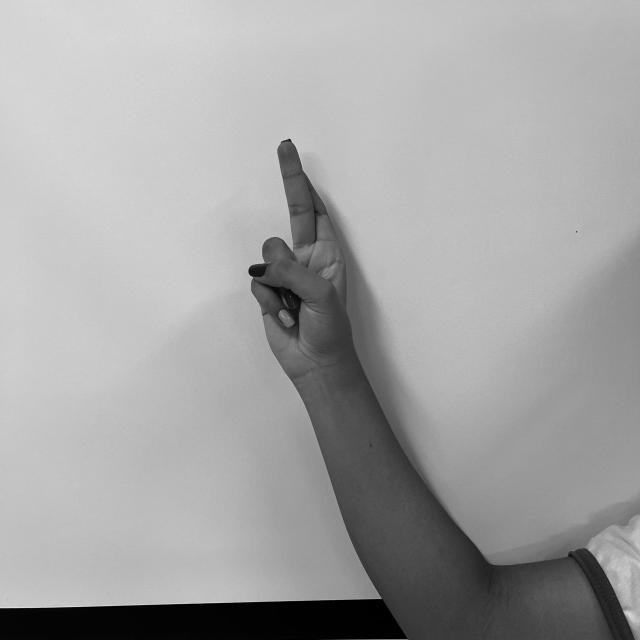Letra R: (242, 130, 356, 366)
